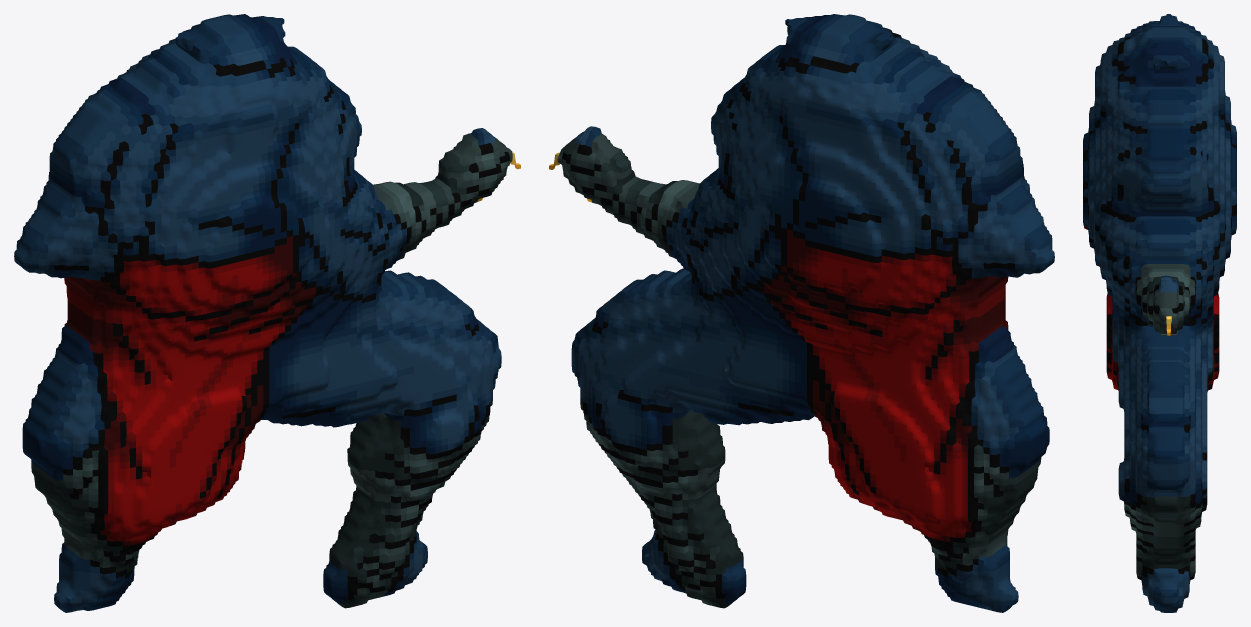
Rendered from Fight_017_2_10.obj.
The picture shows the model from 3 angles, left to right: view 1: azimuth 30°, elevation 25°; view 2: azimuth 150°, elevation 25°; view 3: azimuth 270°, elevation 25°; orthographic projection. The views are drawn at different scales.
Bounding box in the file's own units: 8.28 × 9.6 × 2.6.
Materials: 1 (1 with a texture image).
